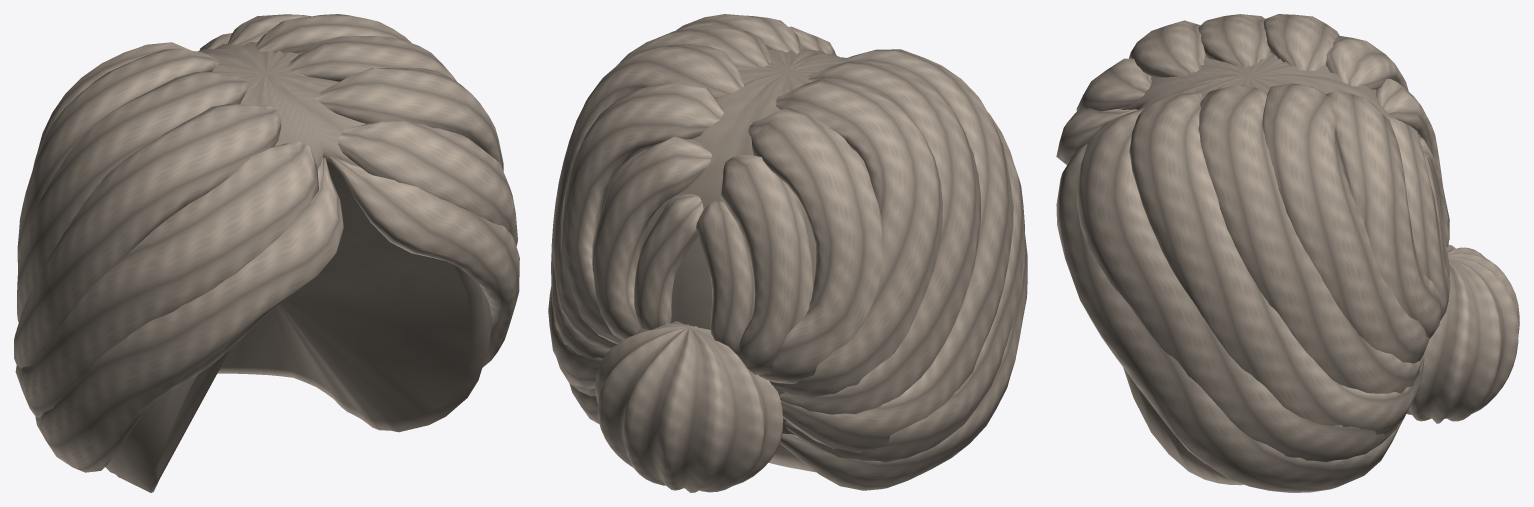
File: Hair002_Painter.fbx
The picture shows the model from 3 angles, left to right: view 1: azimuth 30°, elevation 25°; view 2: azimuth 150°, elevation 25°; view 3: azimuth 270°, elevation 25°; orthographic projection. The views are drawn at different scales.
Visible parts, largest first — view 1: Hair002; view 2: Hair002; view 3: Hair002.
Part boxes in pixels (bbox=[...]): Hair002: bbox=[14, 14, 519, 492]; Hair002: bbox=[548, 14, 1027, 492]; Hair002: bbox=[1056, 14, 1519, 492].
Bounding box in the file's own units: 10860 × 9463 × 10639.
